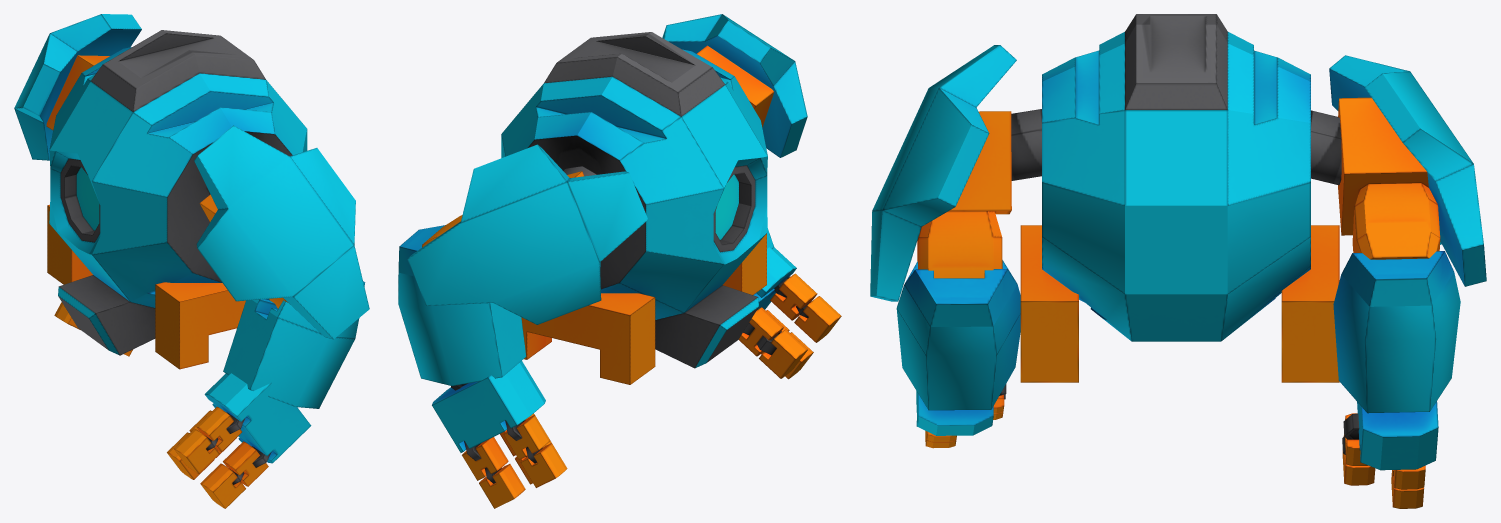
File: Body_Idle26.obj
3 renders of one model, left to right at view 1: azimuth 30°, elevation 25°; view 2: azimuth 150°, elevation 25°; view 3: azimuth 270°, elevation 25°, orthographic. The views are drawn at different scales.
Visible parts, largest first — view 1: Plane001, Object006, Object008, Object007, Object002; view 2: Plane001, Object002, Object004, Object003, Object006, Object008; view 3: Plane001, Object006, Object002, Object003, Object007, Object004, Object008, Object005, Object001.
Boxes of the visible parts, x1=… form: Plane001: x1=47, y1=30, x2=307, y2=369; Object006: x1=194, y1=125, x2=369, y2=339; Object008: x1=167, y1=373, x2=311, y2=508; Object007: x1=223, y1=281, x2=365, y2=408; Object002: x1=14, y1=14, x2=141, y2=160; Plane001: x1=501, y1=32, x2=767, y2=384; Object002: x1=407, y1=144, x2=648, y2=324; Object004: x1=432, y1=361, x2=567, y2=508; Object003: x1=398, y1=225, x2=526, y2=385; Object006: x1=662, y1=14, x2=807, y2=157; Object008: x1=738, y1=247, x2=841, y2=379; Plane001: x1=1020, y1=14, x2=1339, y2=382; Object006: x1=870, y1=45, x2=1016, y2=301; Object002: x1=1329, y1=55, x2=1486, y2=286; Object003: x1=1333, y1=251, x2=1460, y2=413; Object007: x1=896, y1=260, x2=1020, y2=410; Object004: x1=1342, y1=401, x2=1438, y2=508; Object008: x1=916, y1=384, x2=1006, y2=448; Object005: x1=1011, y1=109, x2=1041, y2=180; Object001: x1=1311, y1=110, x2=1341, y2=185.
Bounding box in the file's own units: 96.26 × 151 × 182.
